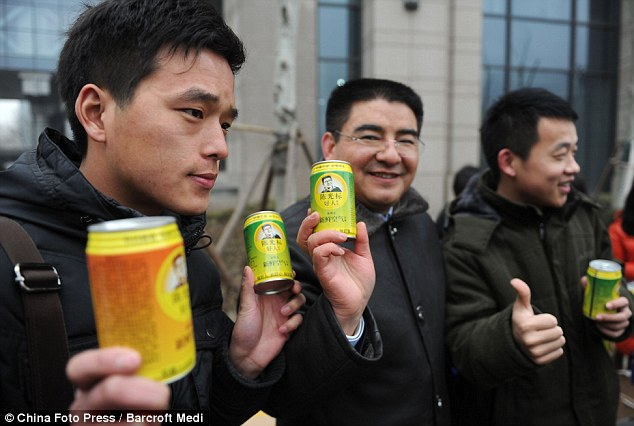can: (83, 213, 200, 393), (241, 208, 296, 298), (308, 159, 359, 242), (581, 257, 623, 322)
